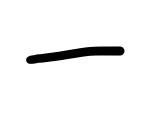minus: (25, 45, 124, 63)
